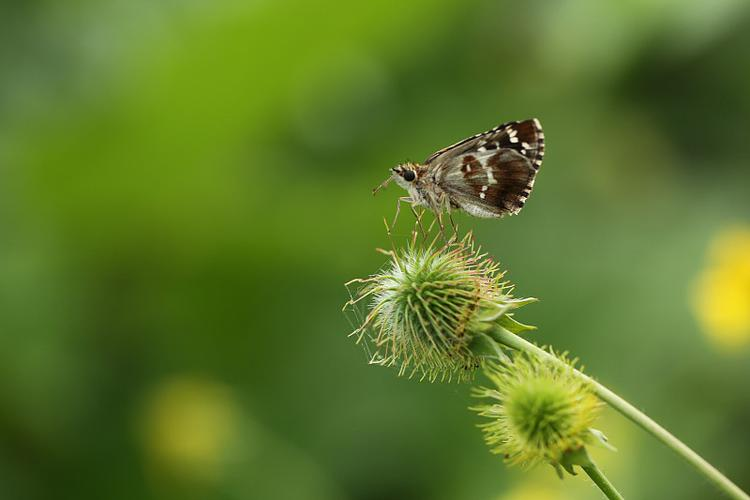Hesperiidae: (371, 115, 550, 240)
